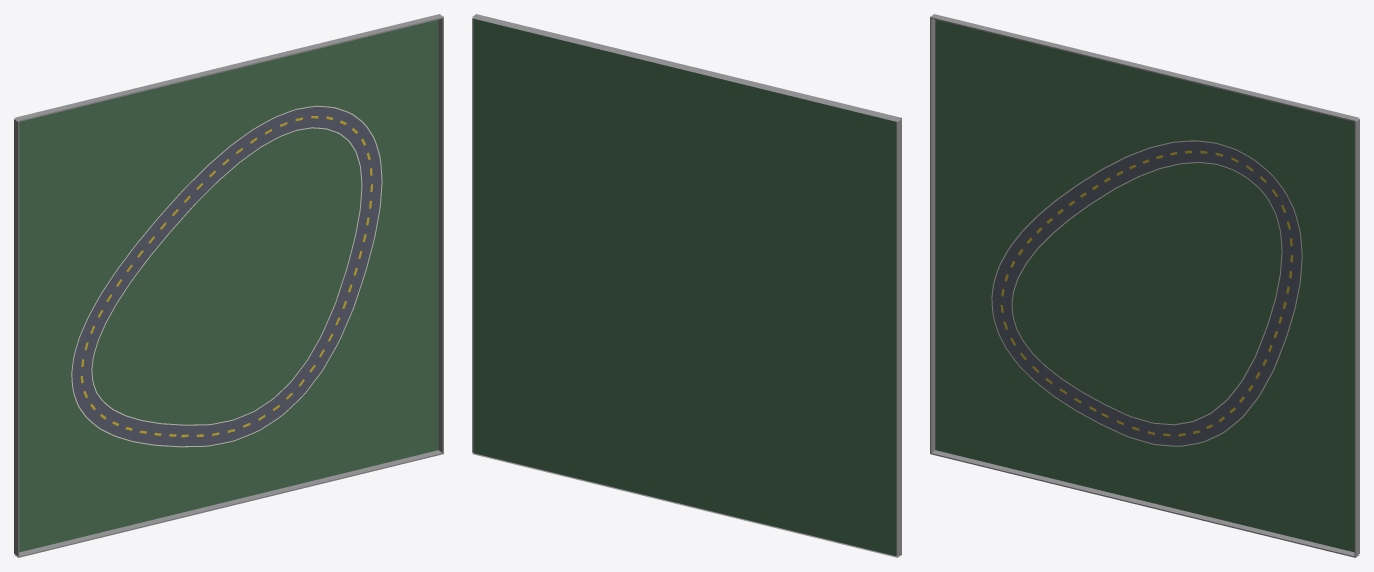
The model's file is track.obj.
3 renders of one model, left to right at view 1: azimuth 30°, elevation 25°; view 2: azimuth 150°, elevation 25°; view 3: azimuth 330°, elevation 25°, orthographic.
Size of the model in its own units: 17.72 by 17.38 by 0.3.
5 materials, 5 textured.
